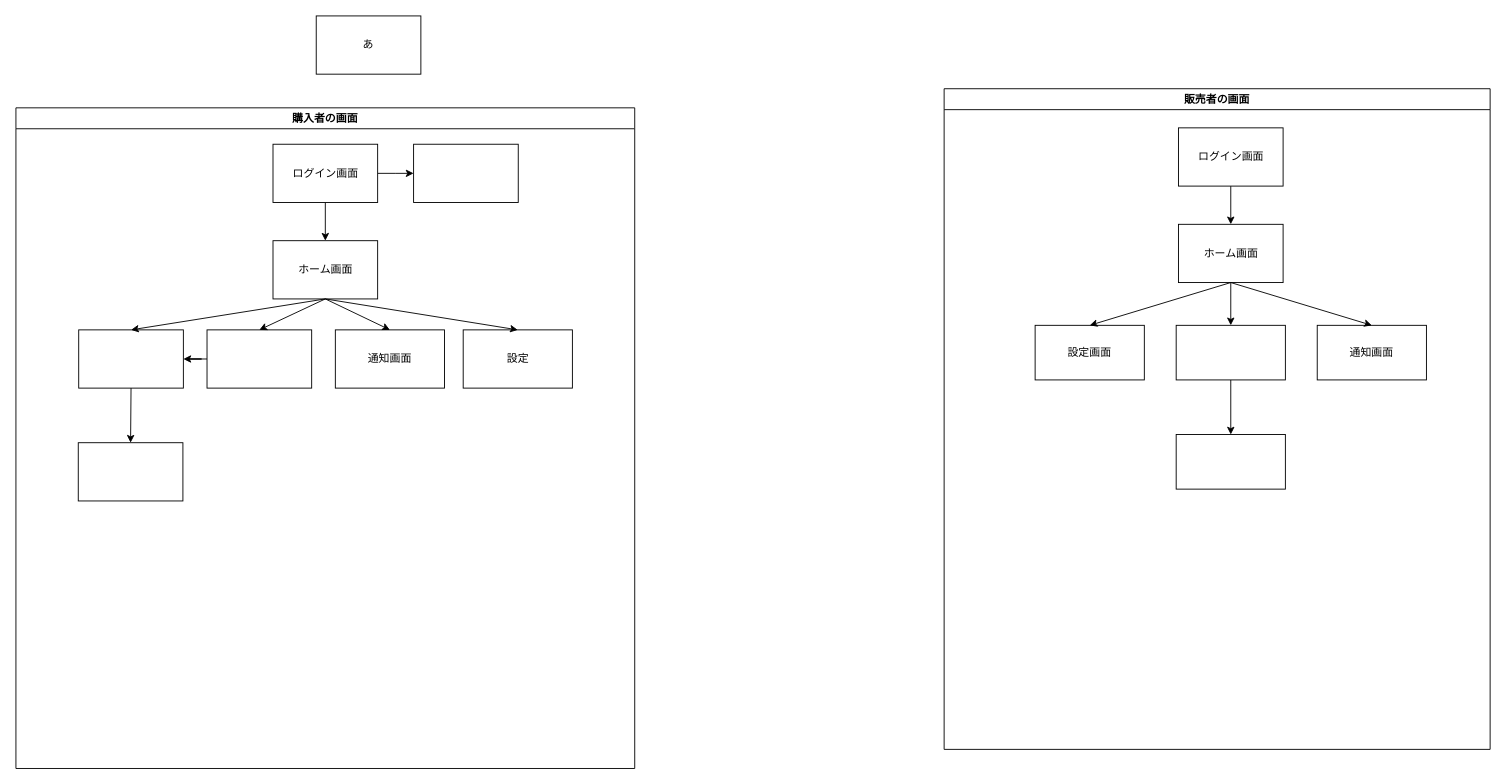
Some shapes in this 1506 by 784 pixel diagram are drawn without their labels. Here are the shapes that lost their labels. From the top down, the centre of each, then its label:
At (465,172): "新規登録".
At (130,358): "商品予約画面".
At (259,358): "出品中の店舗検索".
At (1230,352): "出品リスト".
At (130,471): "予約確定画面".
At (1230,461): "新規出品画面".
